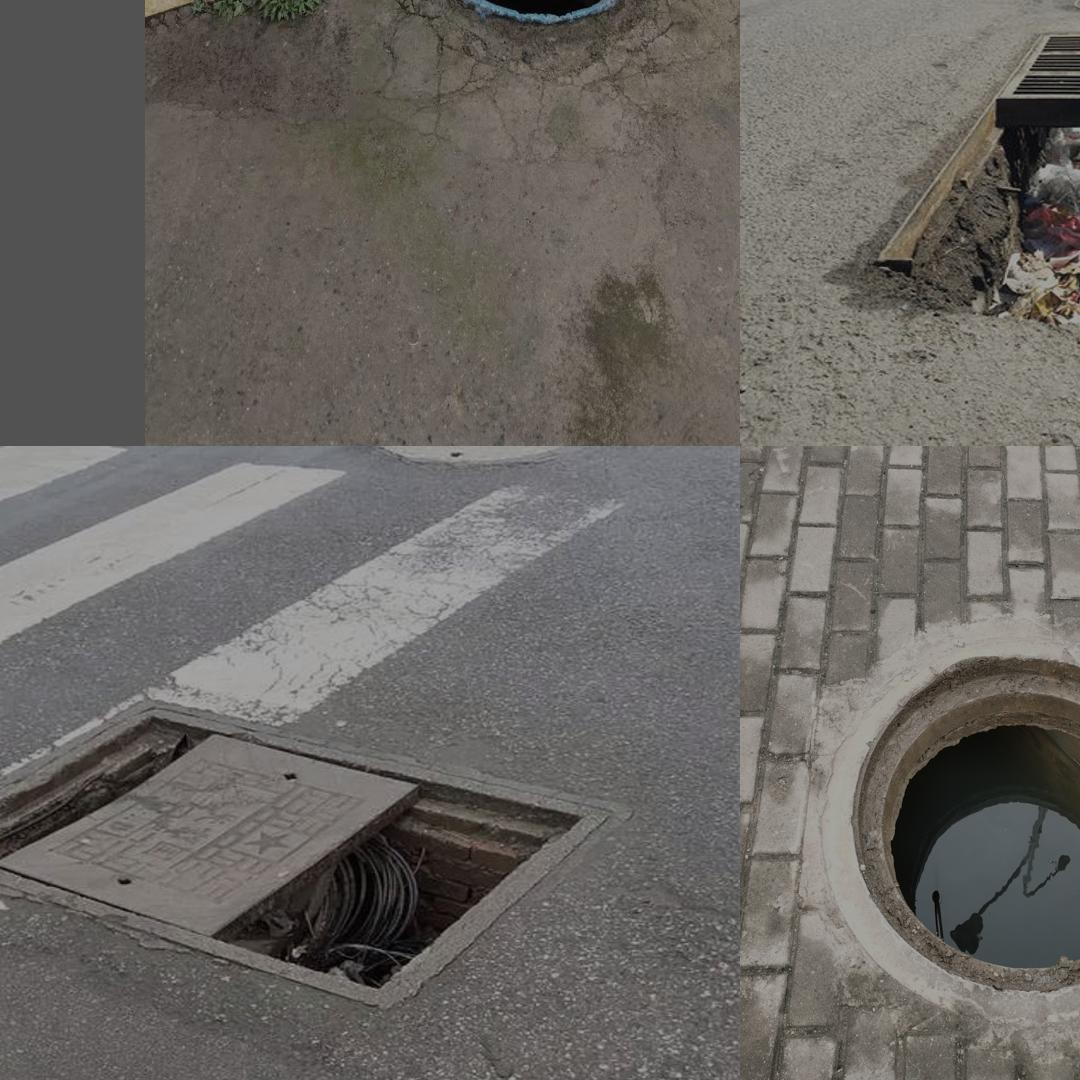lose: (0, 676, 618, 1024), (821, 637, 1080, 1022), (869, 100, 1080, 323), (430, 0, 645, 20)
